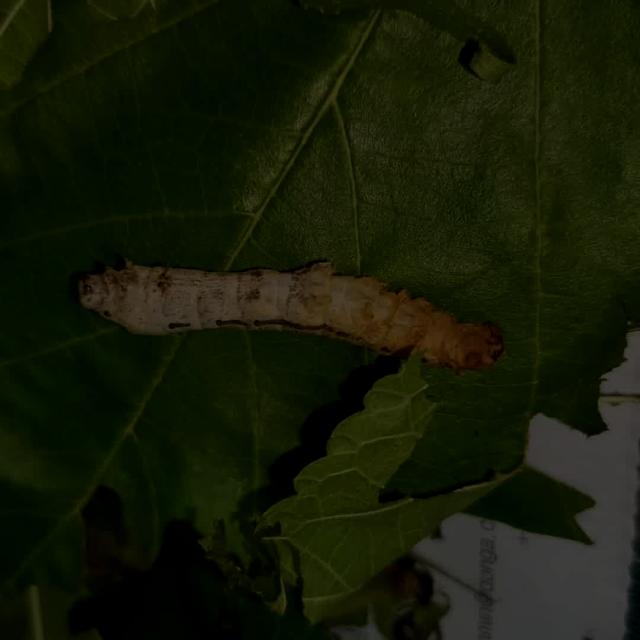Grasserie: (59, 186, 538, 434)
